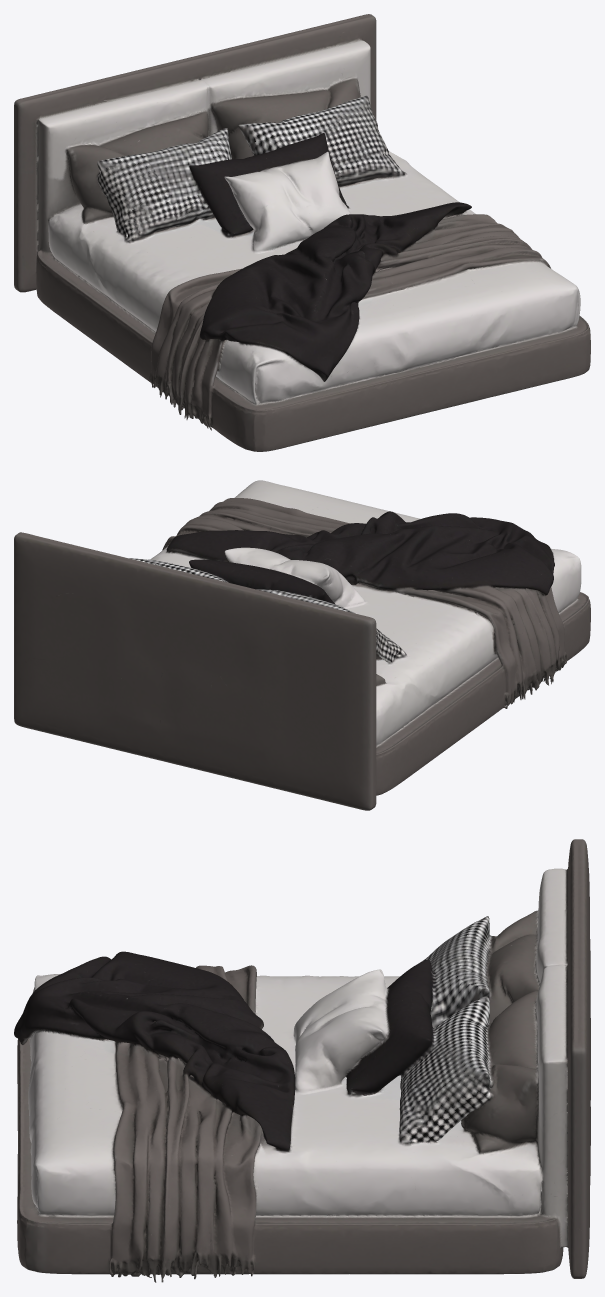
The model's file is Bed.glb.
3 renders of one model, top to bottom at view 1: azimuth 30°, elevation 25°; view 2: azimuth 150°, elevation 25°; view 3: azimuth 270°, elevation 25°, orthographic. The views are drawn at different scales.
Bounding box in the file's own units: 1.73 × 0.844 × 1.9.
1 material, 1 textured.
